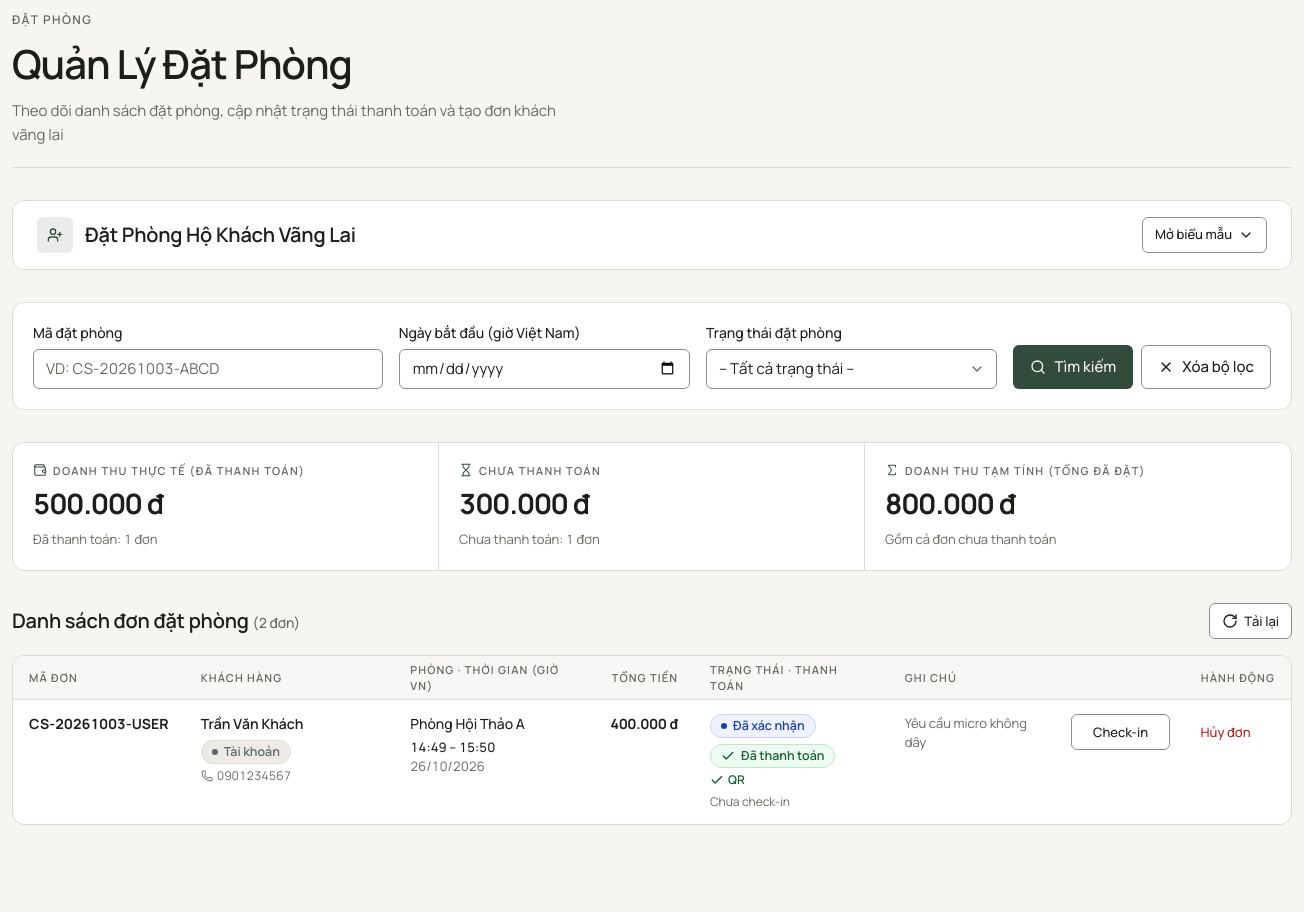
AdminBookingsPage - Booking Management & Search › Check-in › retains the table and reports check-in failure (409)
Step 1. Click the button with test id "check-in-booking-btn-booking-1" → (1120, 732), box [1071,714,1170,750]
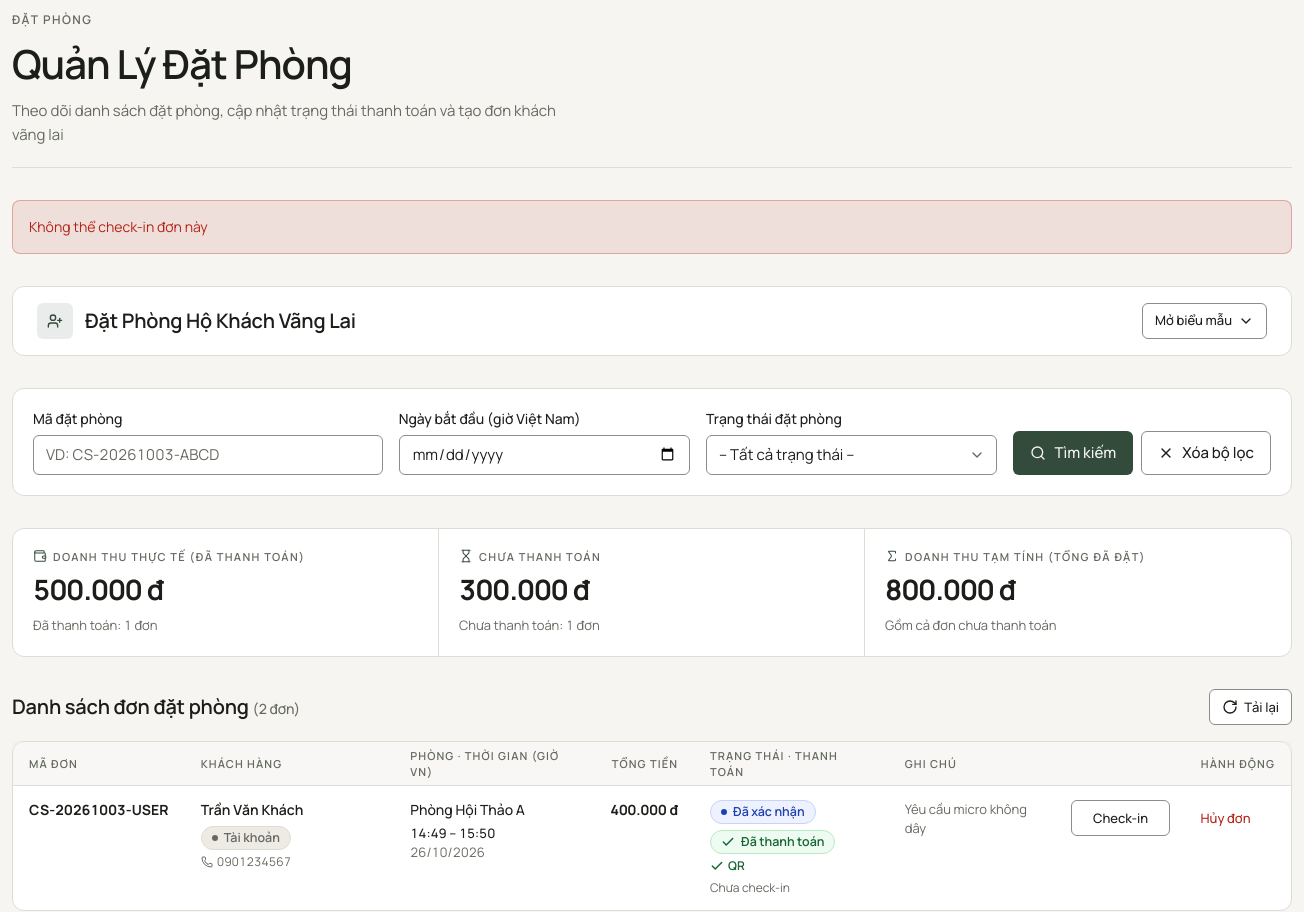
Expected: the table with test id "admin-bookings-table" is shown, [13,742,1291,910]
Expected: the message reads "Không thể check-in đơn này", [29,217,208,236]
